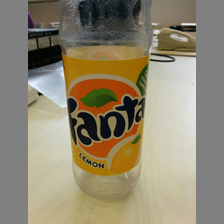soda: (59, 1, 154, 200)
